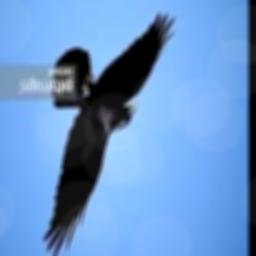Crow: (43, 11, 175, 256)
